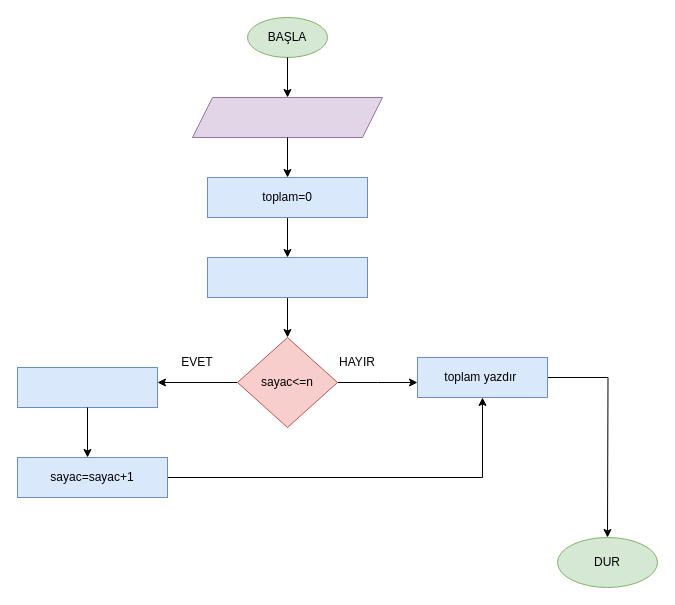
The diagram is 675 pixels wide and 605 high, and some of its shapes have lost their labels. The shapes that lost their labels are listed below. From the top down, each one's centre as x and y in pixels, then its label:
the point at 287,117: Oku(n).
the point at 287,277: sayac=1
the point at 87,387: toplam=toplam+sayac
